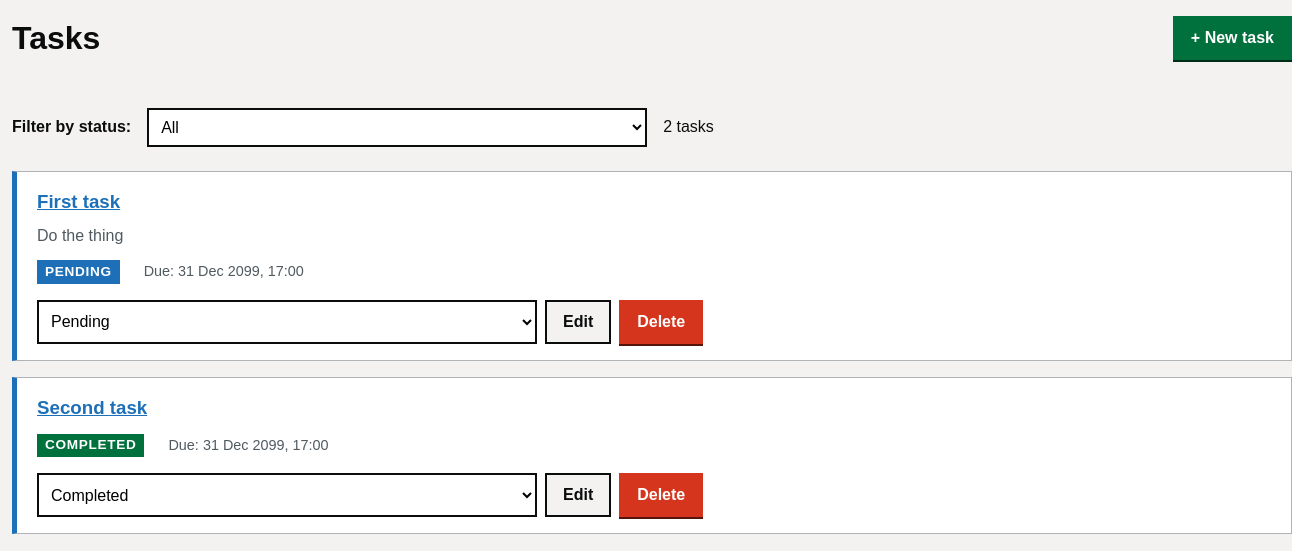
Scenario: TaskListPage › filters tasks by status
The width and height of the screenshot is (1292, 551).
Check: the link "First task" is shown, box [37,191,120,212]
Select "Completed" in the dropdown labelled "Filter by status:" at (397, 127), box [147,108,647,147]
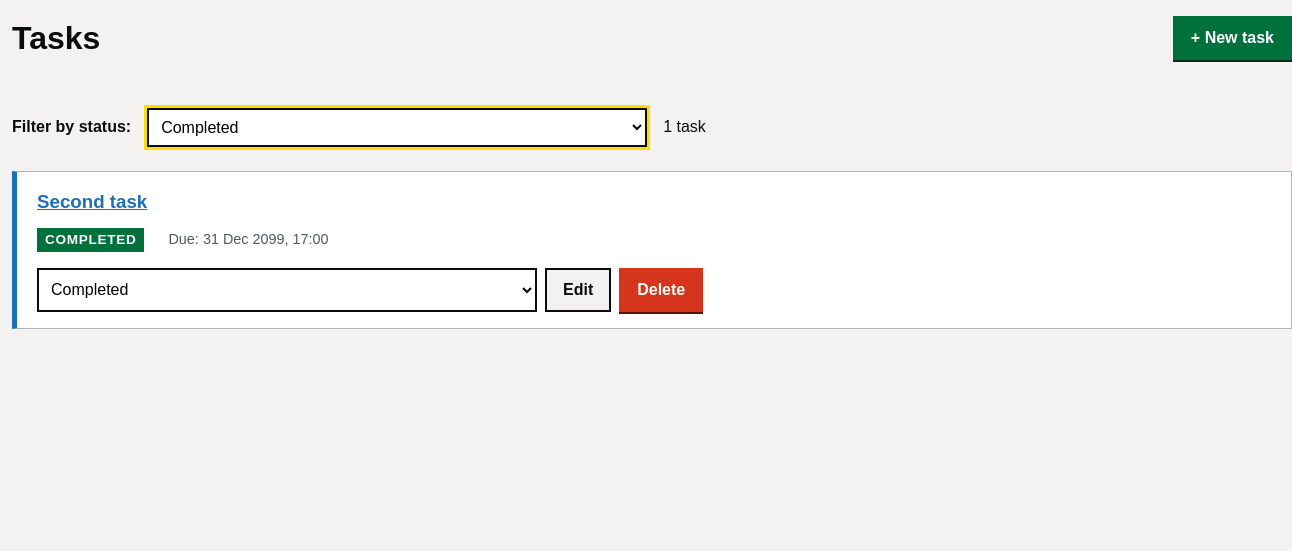
Check: the link "Second task" is shown, box [37,191,147,212]
Check: the link "First task" is gone
